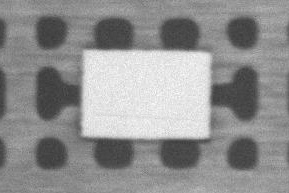DIE_CRACK: (139, 76, 289, 80)
